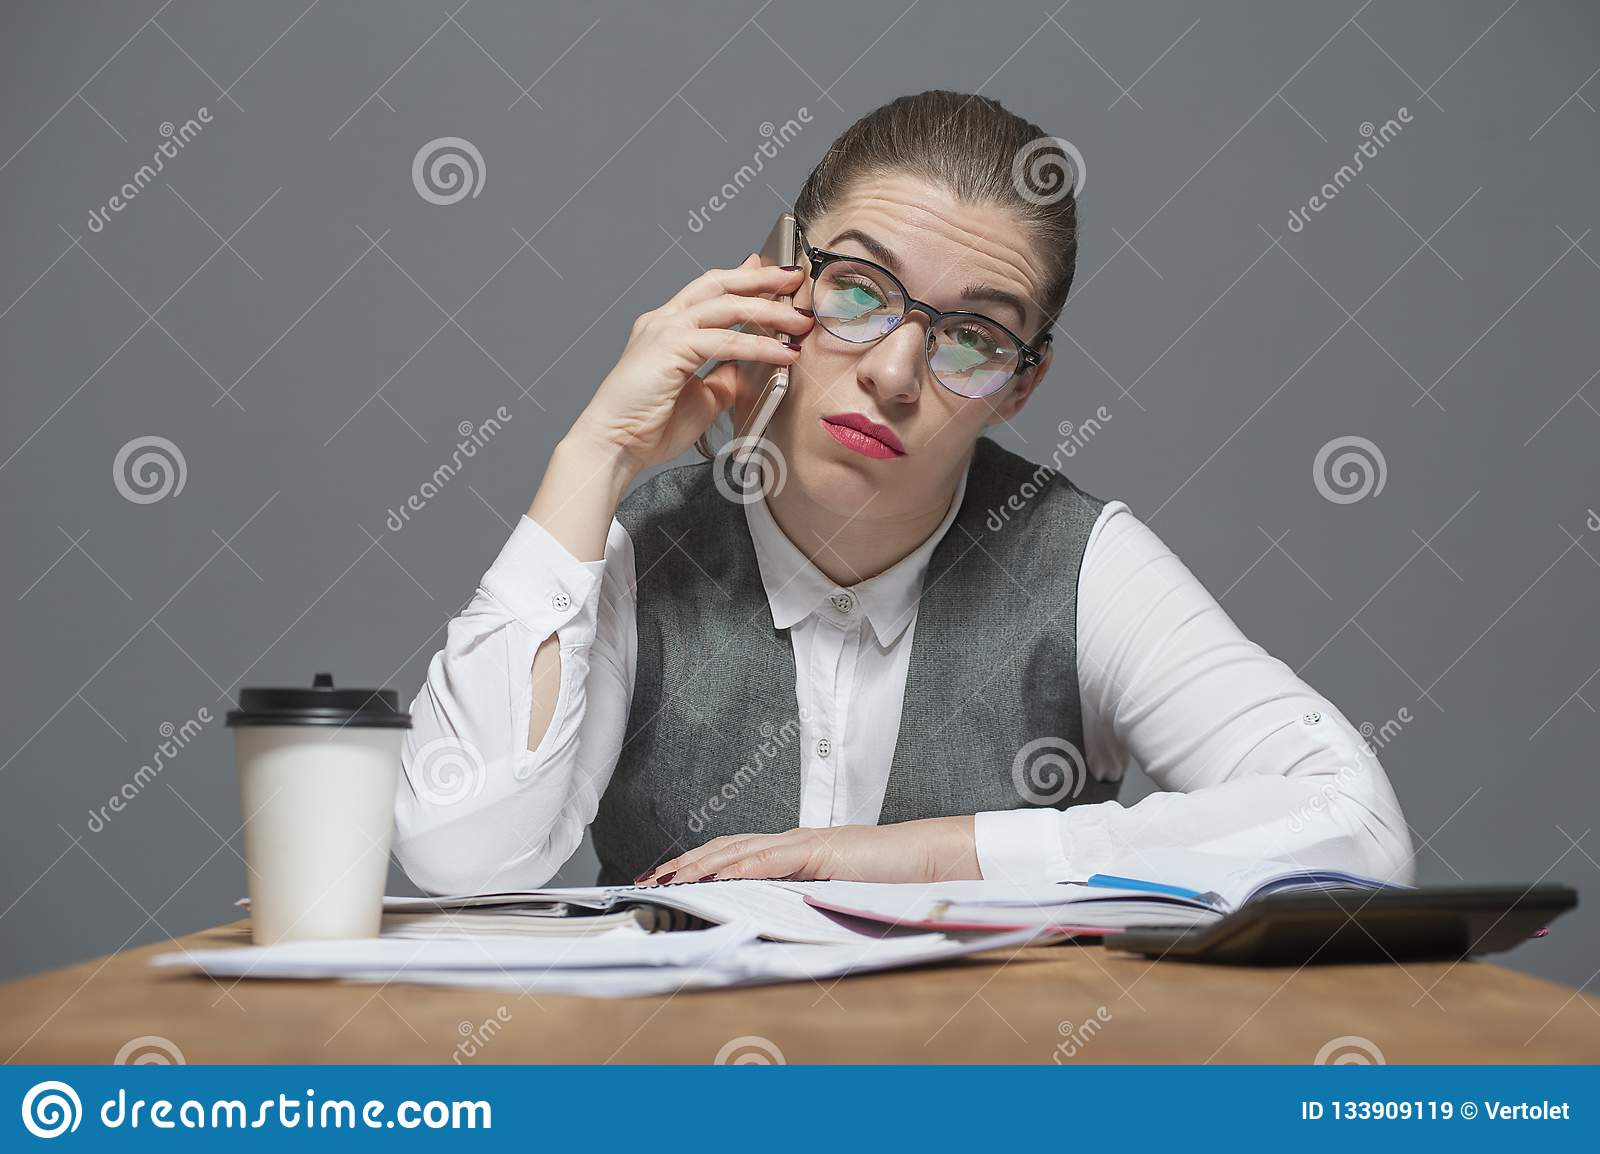phone: (728, 194, 798, 473)
talk: (558, 212, 1034, 484)
